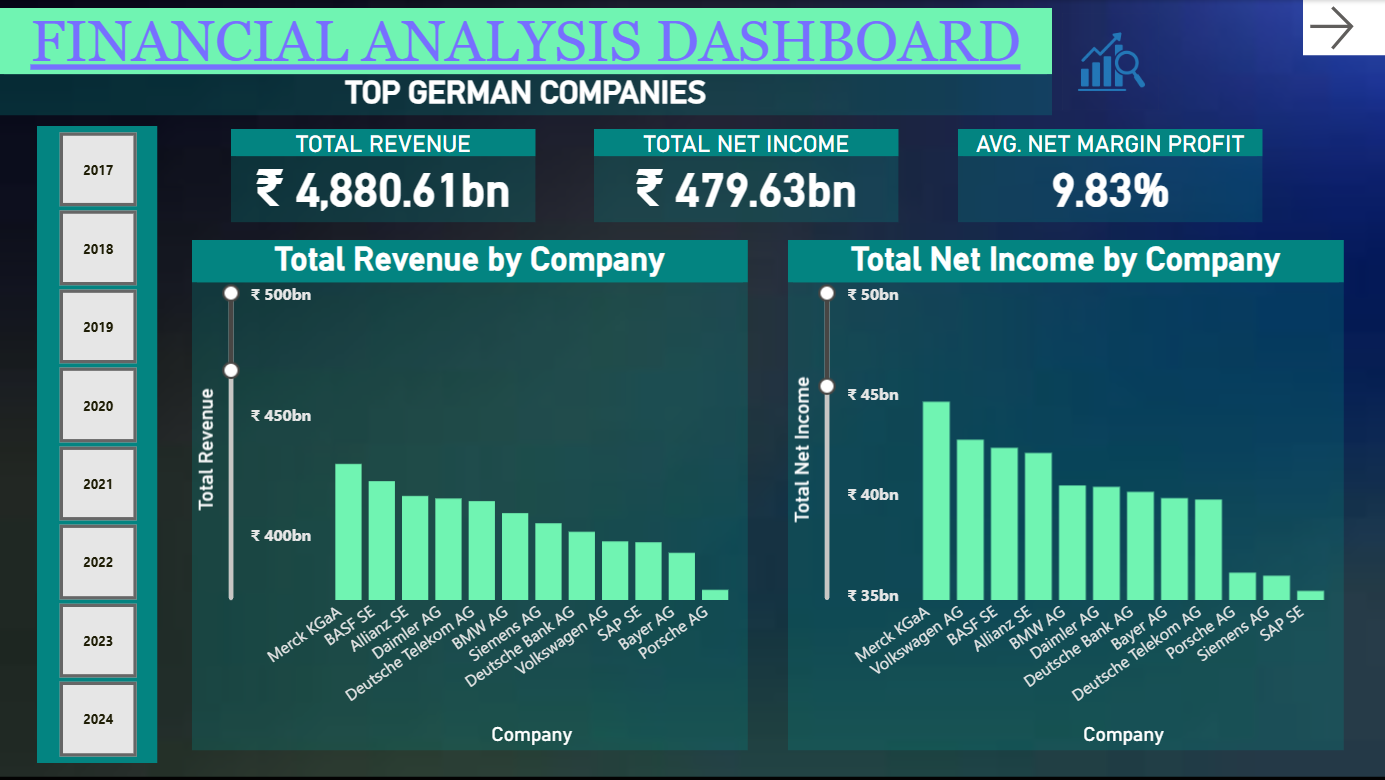

The dashboard page shown, as its layout file describes it:
{"tool":"powerbi","page":{"name":"Revenue & Profit Overview","canvas":[1280,720],"ordinal":0},"visuals":[{"type":"card","title":"TOTAL NET INCOME","fields":{"Values":["Dashboard Data Source.Total Net Income"]},"box":[549.6,119,280.7,85.7],"z":0},{"type":"card","title":"AVG. NET MARGIN PROFIT","fields":{"Values":["Dashboard Data Source.Average Net Profit Margin (%)"]},"box":[885.1,119,280.7,85.7],"z":1000},{"type":"slicer","fields":{"Values":["Dashboard Data Source.Year"]},"box":[35,116.3,111.1,587.5],"z":2000},{"type":"card","title":"TOTAL REVENUE","fields":{"Values":["Dashboard Data Source.Total Revenue"]},"box":[214.1,119,280.7,85.7],"z":3000},{"type":"columnChart","fields":{"Y":["Dashboard Data Source.Total Revenue"],"Category":["Dashboard Data Source.Company"]},"box":[178.4,221.3,512.7,471.1],"z":4000},{"type":"columnChart","fields":{"Y":["Dashboard Data Source.Total Net Income"],"Category":["Dashboard Data Source.Company"]},"box":[728,221.3,512.7,471.1],"z":5000},{"type":"actionButton","box":[1203.9,0,76.1,51.4],"z":6000},{"type":"textbox","title":"FINANCIAL  ANALYSIS  DASHBOARD","box":[0,7.1,971.9,98.7],"z":7000},{"type":"image","box":[954.1,7.1,142.8,98.7],"z":8000}]}

Visuals, with their boxes in screenshot pixels (x1, y1, x2, y2), scaled from the page's 1280x720 canvas onto the 1385x780 screenshot:
"TOTAL NET INCOME" card: 595,129,898,222
"AVG. NET MARGIN PROFIT" card: 958,129,1261,222
slicer - Dashboard Data Source.Year: 38,126,158,762
"TOTAL REVENUE" card: 232,129,535,222
columnChart - Dashboard Data Source.Total Revenue x Dashboard Data Source.Company: 193,240,748,750
columnChart - Dashboard Data Source.Total Net Income x Dashboard Data Source.Company: 788,240,1342,750
actionButton: 1303,0,1384,56
"FINANCIAL  ANALYSIS  DASHBOARD" textbox: 0,8,1052,115
image: 1032,8,1187,115
